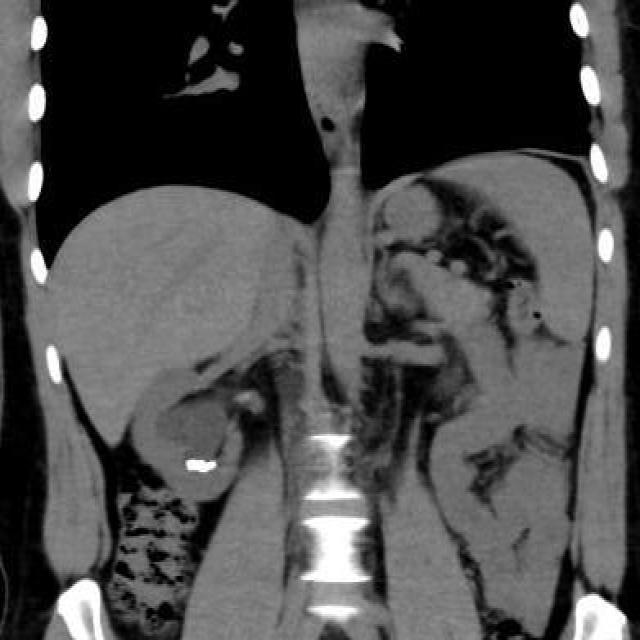Tas_Var: (186, 457, 218, 475)
